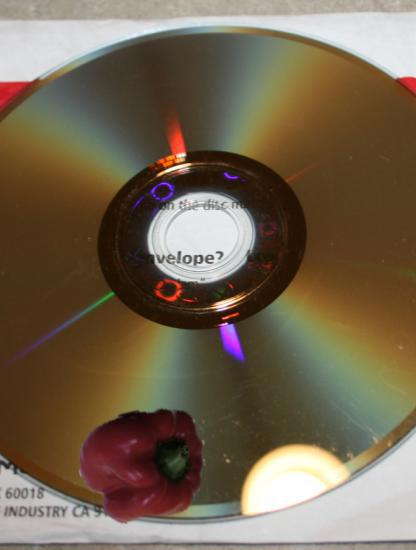Pepper: (79, 401, 208, 530)
